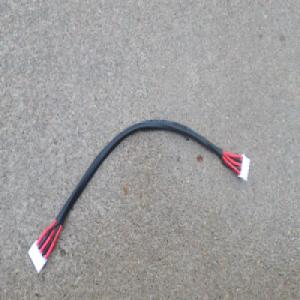Wire: (27, 116, 251, 273)
